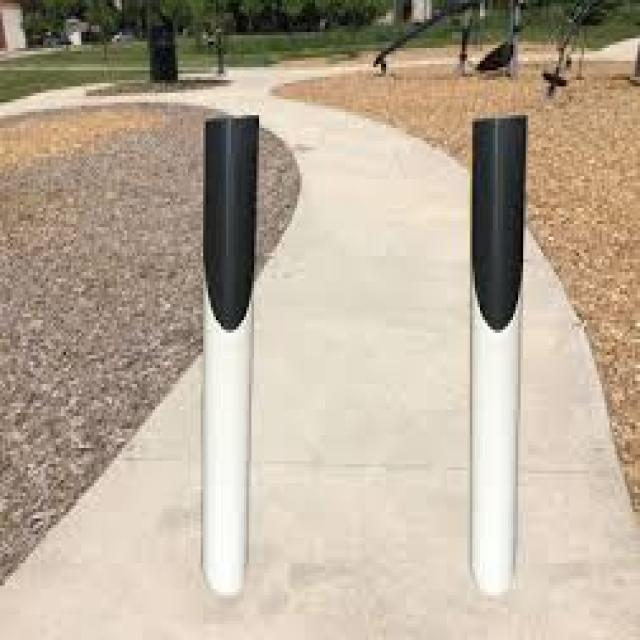bollard: (190, 91, 259, 599), (464, 96, 531, 599)
